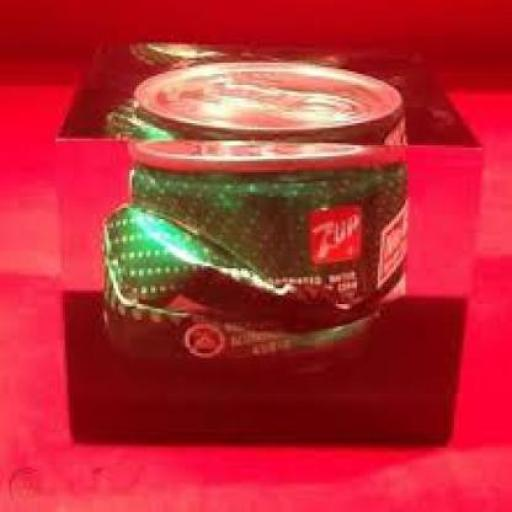metal: (99, 62, 408, 360)
